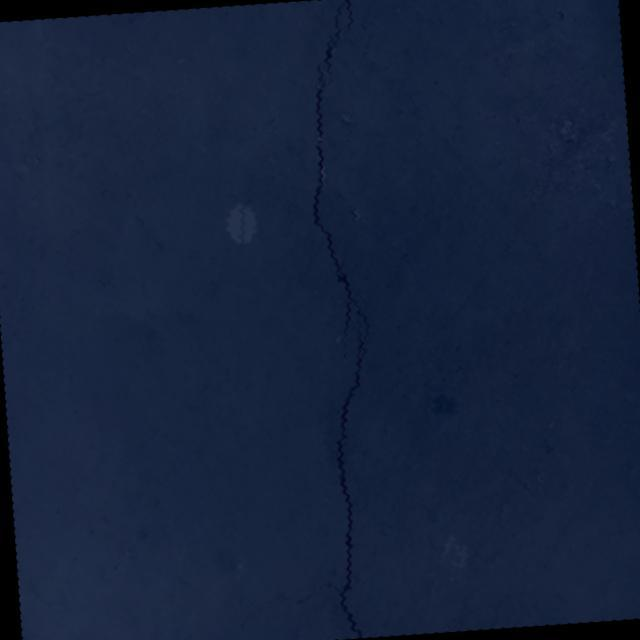crack: (243, 0, 396, 640)
